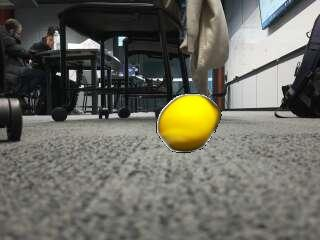lemon: (159, 96, 219, 151)
